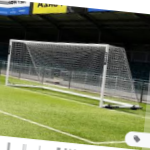goals: (5, 38, 141, 109)
